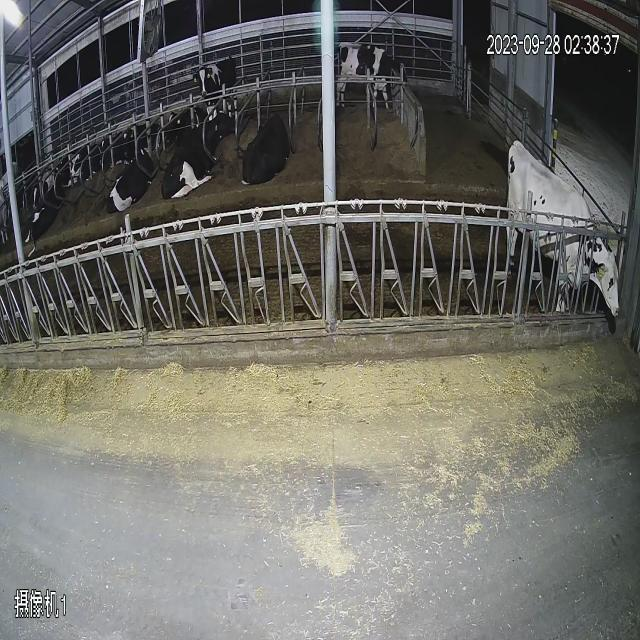lying down: (17, 108, 164, 244), (236, 91, 294, 200), (162, 104, 224, 186)
standing: (337, 33, 413, 110), (190, 49, 243, 105)
